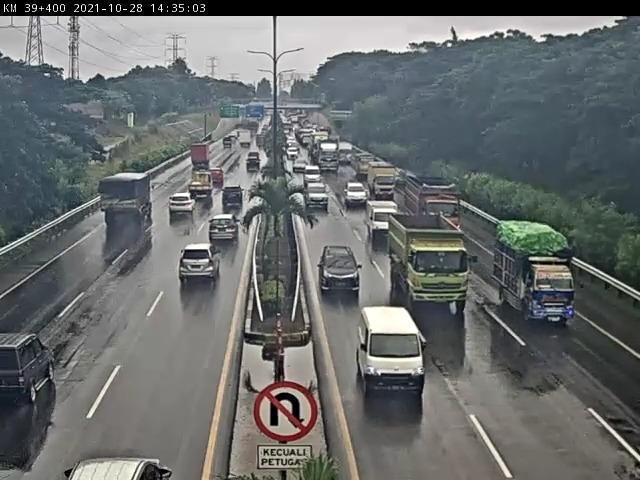car: (349, 289, 421, 382), (1, 326, 47, 416), (313, 234, 370, 293), (169, 245, 221, 301), (362, 198, 404, 238), (204, 218, 238, 253), (157, 195, 198, 224), (221, 191, 258, 216), (307, 182, 331, 212), (347, 178, 368, 206), (210, 172, 229, 187)
truck: (495, 218, 579, 326), (396, 231, 480, 319), (95, 173, 157, 234), (403, 179, 459, 228), (364, 161, 394, 197), (190, 143, 217, 176), (191, 177, 216, 202)
